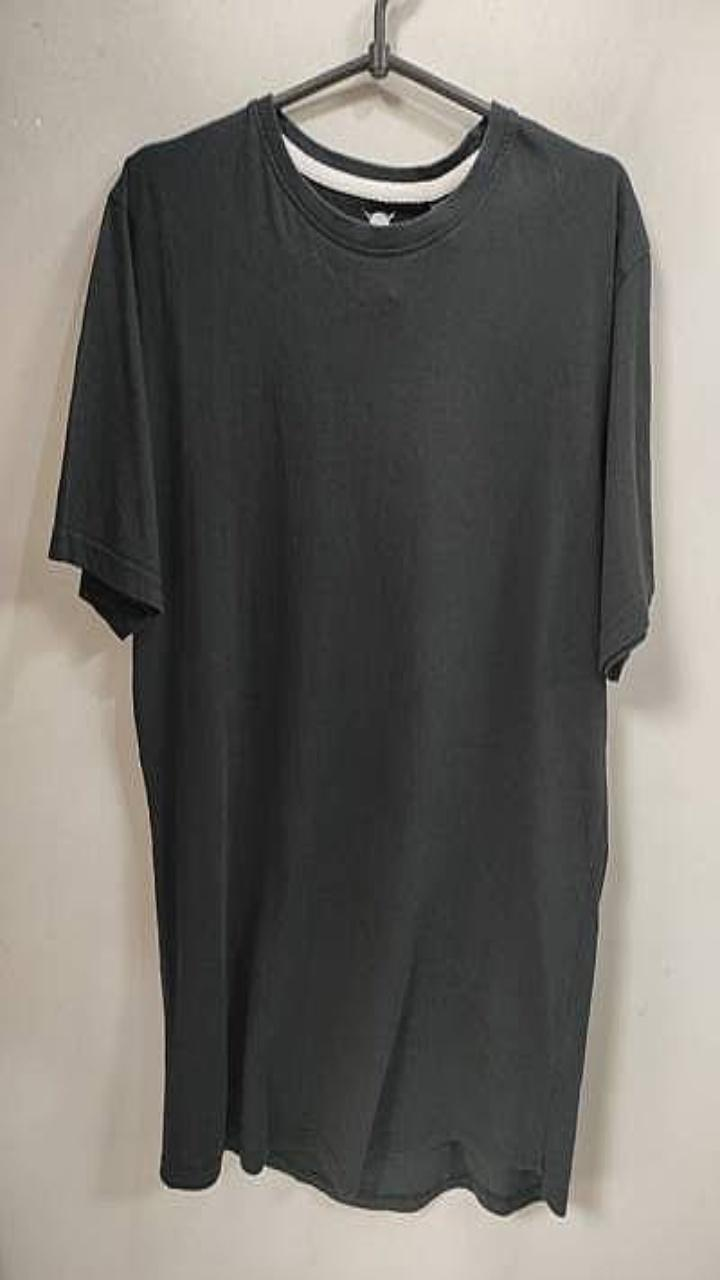T-Shirt: (49, 93, 653, 1215)
